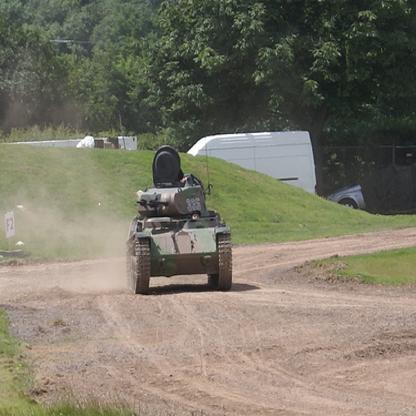Tank: (124, 135, 239, 308)
